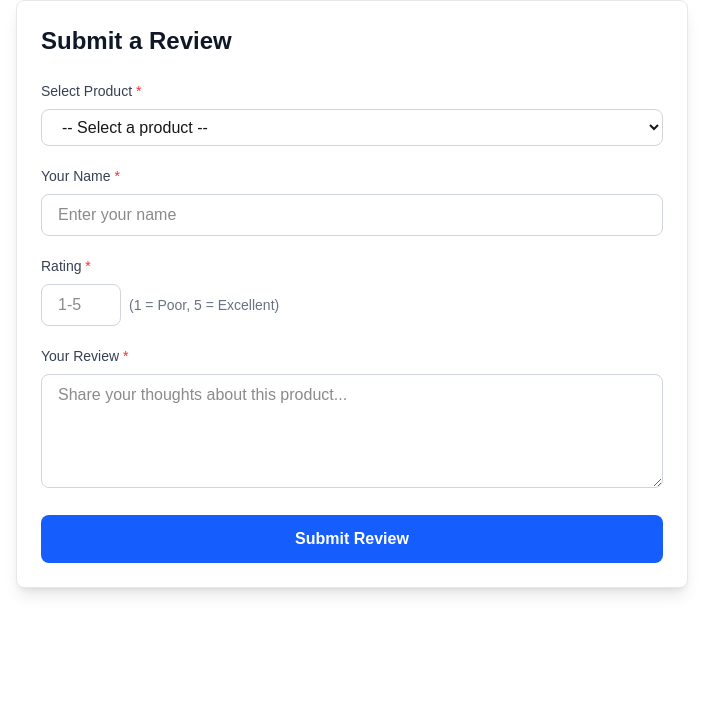
Test case: ProductReviewForm › validates reviewer name minimum length
Check: the dropdown labelled "Select Product *" is shown, box [41,109,663,146]
Type "A" into the field labelled "Your Name *".
click(352, 215); type("A")  # box [41,194,663,236]
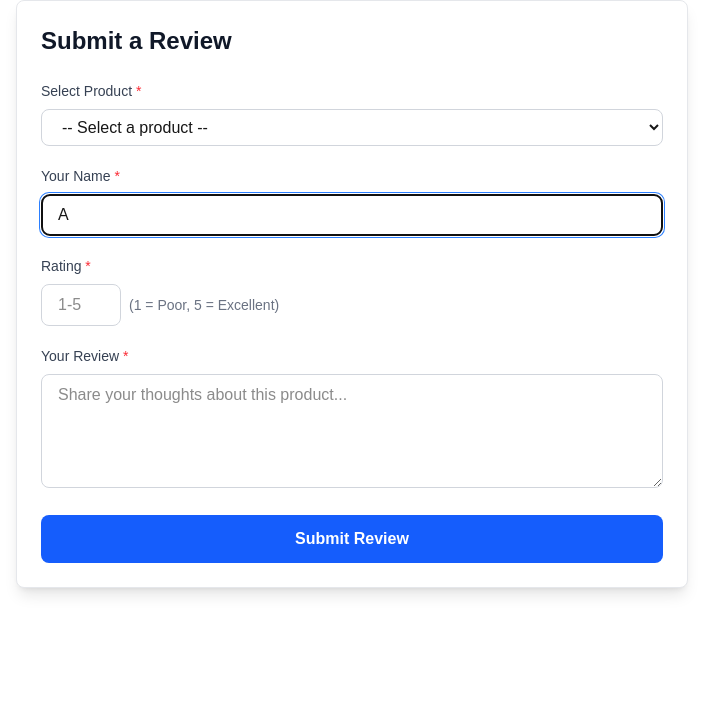
Click the button "Submit Review".
click(352, 539)  # box [41,515,663,563]
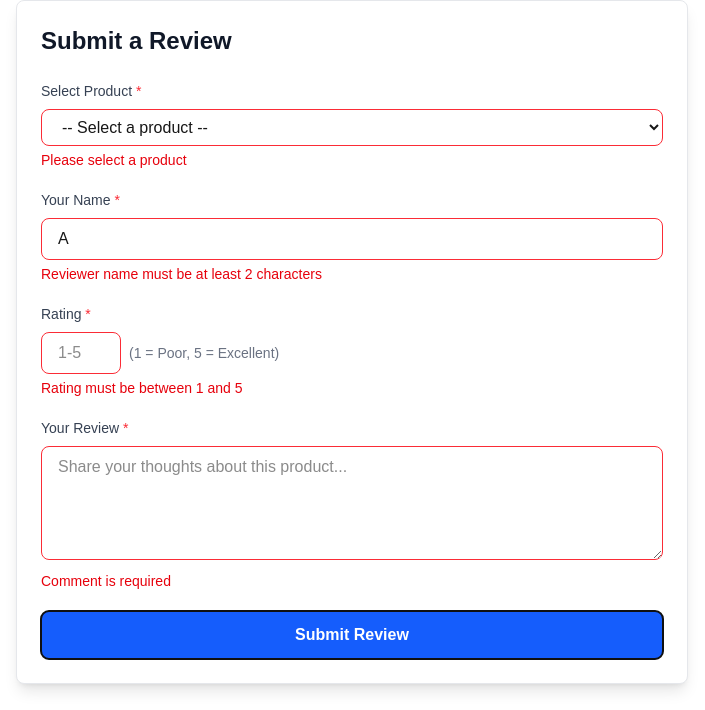
Check: the text "Reviewer name must be at least 2 characters" is shown, box [41,266,322,282]
